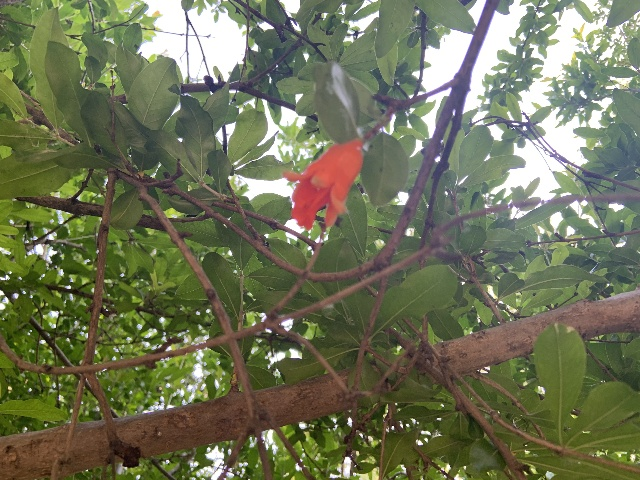flower: (282, 140, 363, 230)
